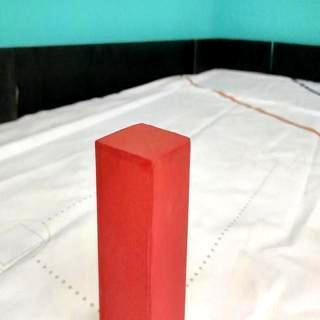redbox: (96, 122, 192, 320)
